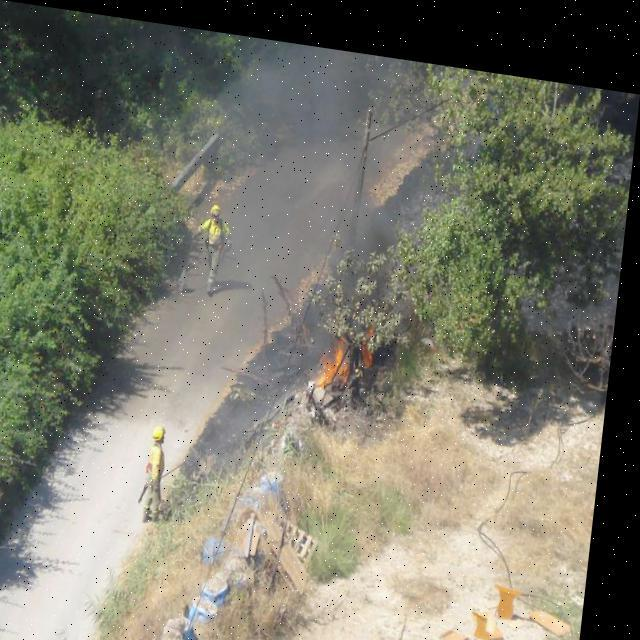Fire: (323, 307, 389, 380)
